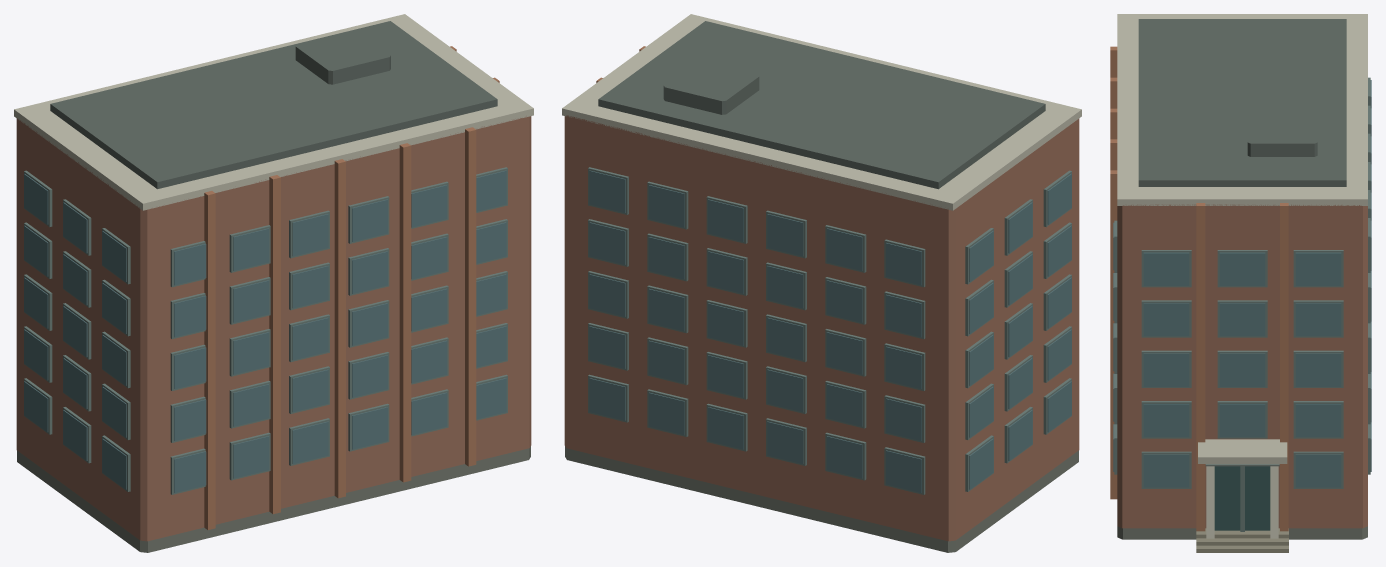
The picture shows the model from 3 angles, left to right: view 1: azimuth 30°, elevation 25°; view 2: azimuth 150°, elevation 25°; view 3: azimuth 270°, elevation 25°; orthographic projection. The views are drawn at different scales.
Visible parts, largest first — view 1: form, glaze, relief, glowing; view 2: form, glaze, relief, glowing; view 3: form, glaze, relief, glowing.
Boxes of the visible parts, x1,y1,x2,y2 form: form: (14, 14, 533, 552); glaze: (24, 170, 506, 492); relief: (24, 167, 507, 494); glowing: (102, 222, 506, 419); form: (562, 14, 1081, 552); glaze: (589, 170, 1071, 489); relief: (588, 167, 1071, 494); glowing: (708, 277, 1071, 492); form: (1110, 14, 1367, 552); glaze: (1113, 80, 1371, 530); relief: (1114, 77, 1370, 538); glowing: (1113, 273, 1341, 471).
Size of the model in its own units: 15.54 by 12.71 by 8.35.
